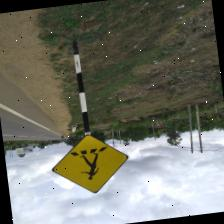yellowboard: (47, 130, 133, 198)
